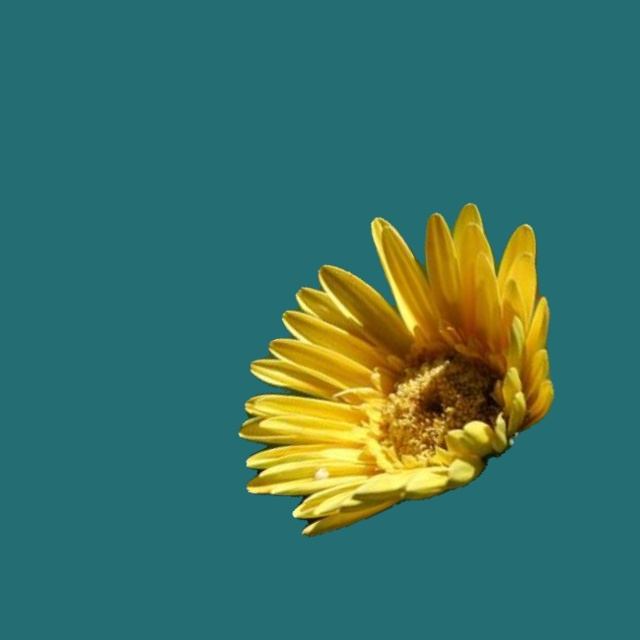daisy: (238, 203, 553, 536)
